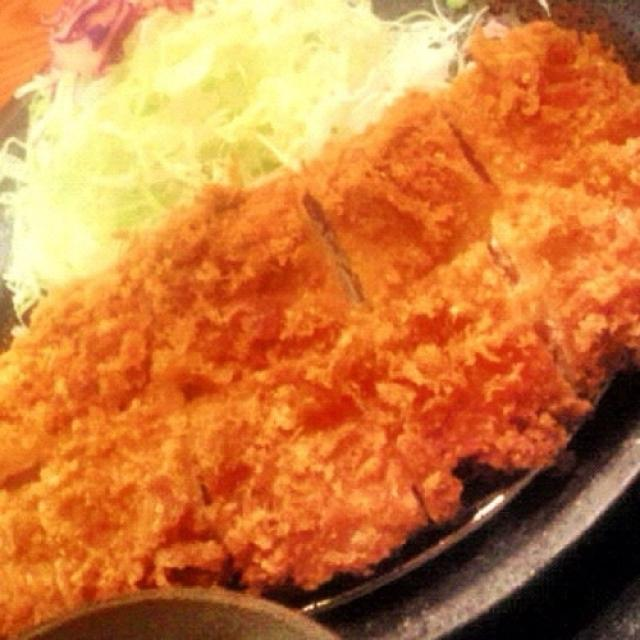牛肉菜式: (9, 23, 630, 611)
